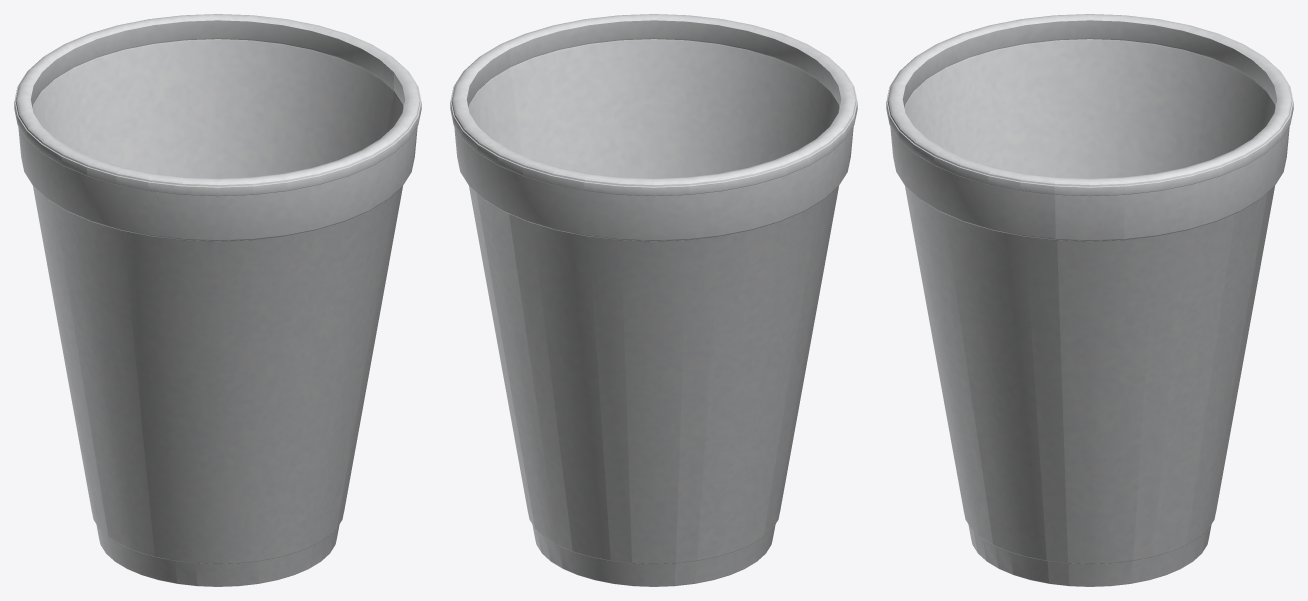
The model's file is Styrofoam cup.fbx.
The picture shows the model from 3 angles, left to right: view 1: azimuth 30°, elevation 25°; view 2: azimuth 150°, elevation 25°; view 3: azimuth 270°, elevation 25°; orthographic projection.
Visible parts, largest first — view 1: Object_0; view 2: Object_0; view 3: Object_0.
Boxes of the visible parts, x1,y1,x2,y2 form: Object_0: [14, 14, 421, 586]; Object_0: [450, 14, 857, 586]; Object_0: [886, 14, 1293, 586].
Bounding box in the file's own units: 641 × 764 × 641.
1 material, 1 textured.
